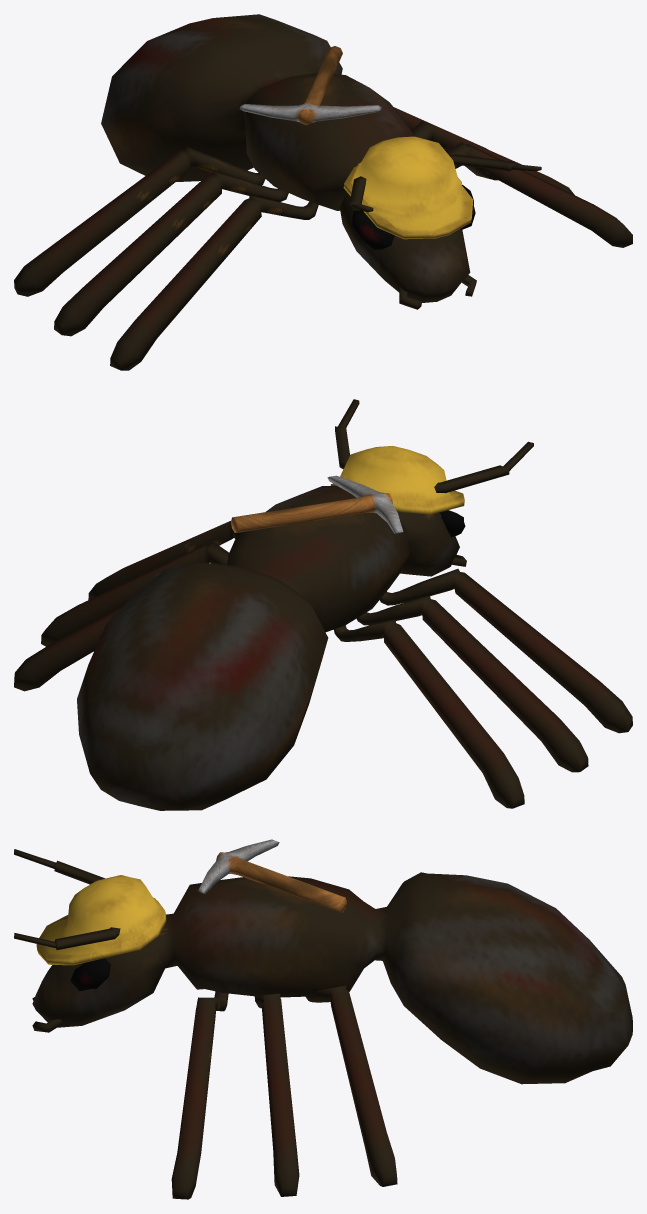
The model's file is CH_HormigaObrera.fbx.
3 renders of one model, top to bottom at view 1: azimuth 30°, elevation 25°; view 2: azimuth 150°, elevation 25°; view 3: azimuth 270°, elevation 25°, orthographic. The views are drawn at different scales.
Parts seen in each view (by area): view 1: ObreraMesh; view 2: ObreraMesh; view 3: ObreraMesh.
Part boxes in pixels (box(x1,y1,x2,y2)): ObreraMesh: box(14, 14, 632, 370); ObreraMesh: box(14, 399, 632, 810); ObreraMesh: box(14, 839, 632, 1199).
Bounding box in the file's own units: 100 × 35.27 × 100.
